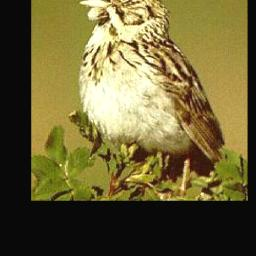Sparrow: (74, 0, 225, 199)
